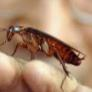cockroach: (5, 24, 82, 66)
